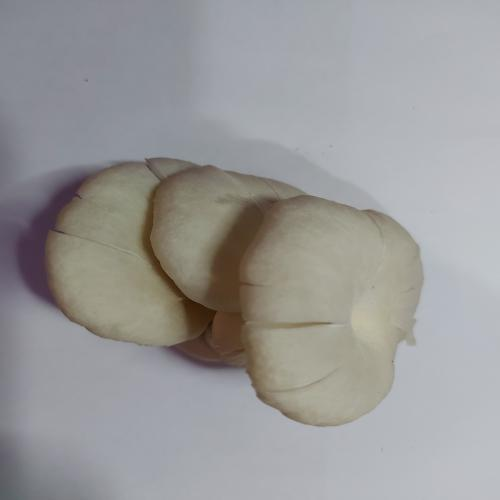Oyster Mushroom: (43, 155, 425, 427)
